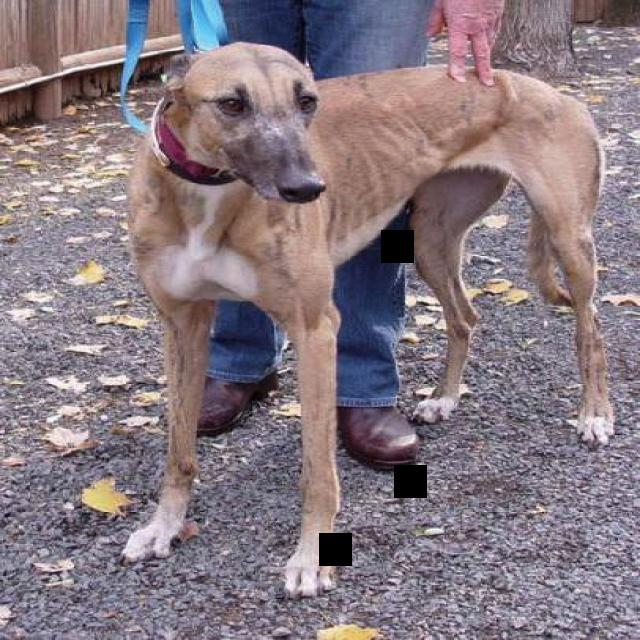adult_dog: (119, 38, 619, 599)
